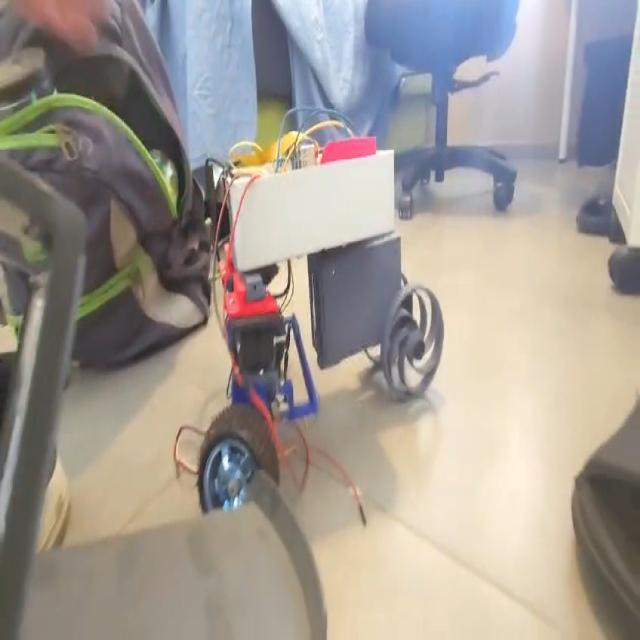Robot: (196, 130, 445, 518)
